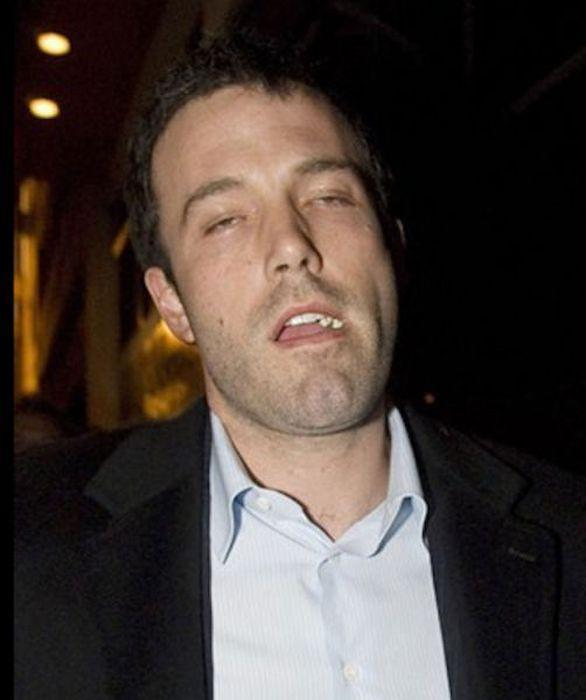Drunk: (172, 113, 388, 405)
